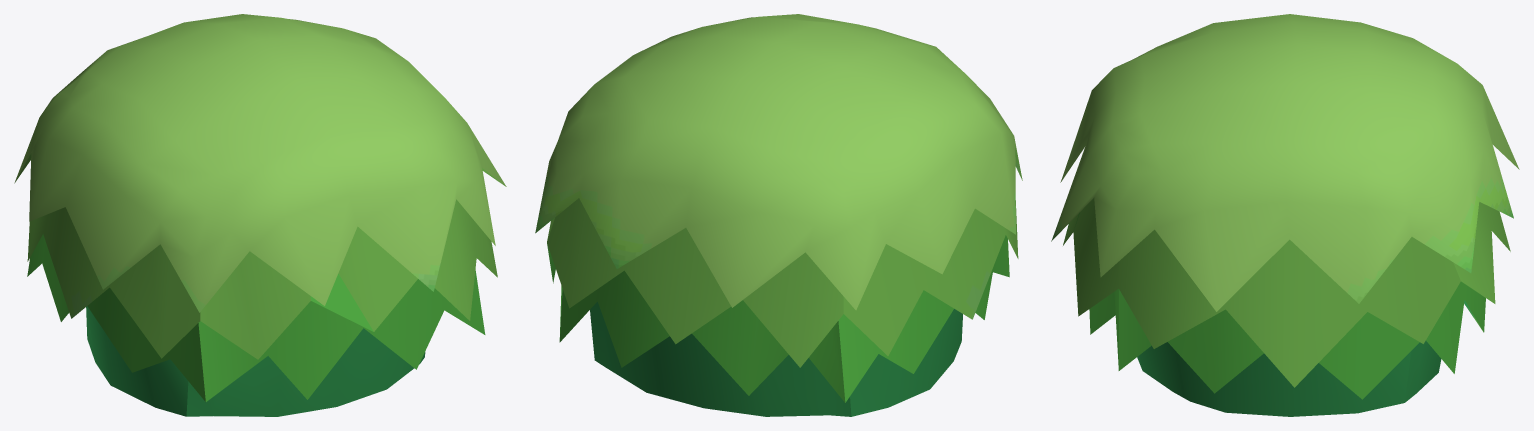
The model's file is Bush_fluffly.fbx.
3 views of the same model, side by side, from view 1: azimuth 30°, elevation 25°; view 2: azimuth 150°, elevation 25°; view 3: azimuth 270°, elevation 25° (orthographic). The views are drawn at different scales.
Parts seen in each view (by area): view 1: Cube; view 2: Cube; view 3: Cube.
Part boxes in pixels (x1,y1,x2,y2): Cube: [14, 14, 506, 416]; Cube: [535, 14, 1022, 416]; Cube: [1051, 14, 1519, 416].
Bounding box in the file's own units: 688 × 499 × 696.
